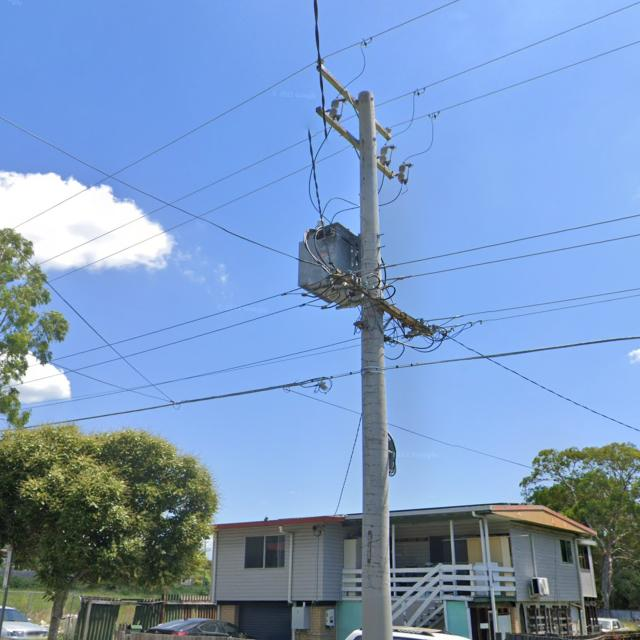HV-transmission: (316, 58, 409, 186)
LV link: (281, 273, 357, 298), (406, 320, 484, 341)
concrete-pole: (360, 89, 394, 640)
crossarm: (330, 272, 434, 337), (315, 64, 394, 141), (316, 104, 394, 180)
transformer: (295, 223, 360, 307)
